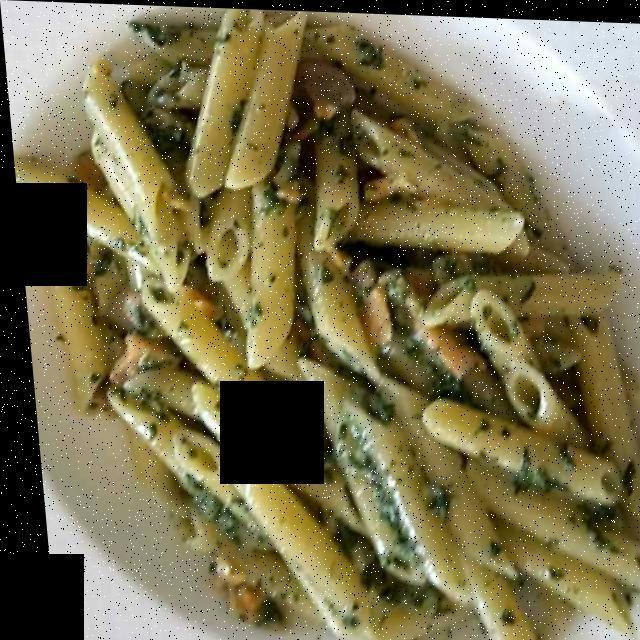pasta: (30, 32, 640, 639)
spinach: (65, 14, 589, 619)
